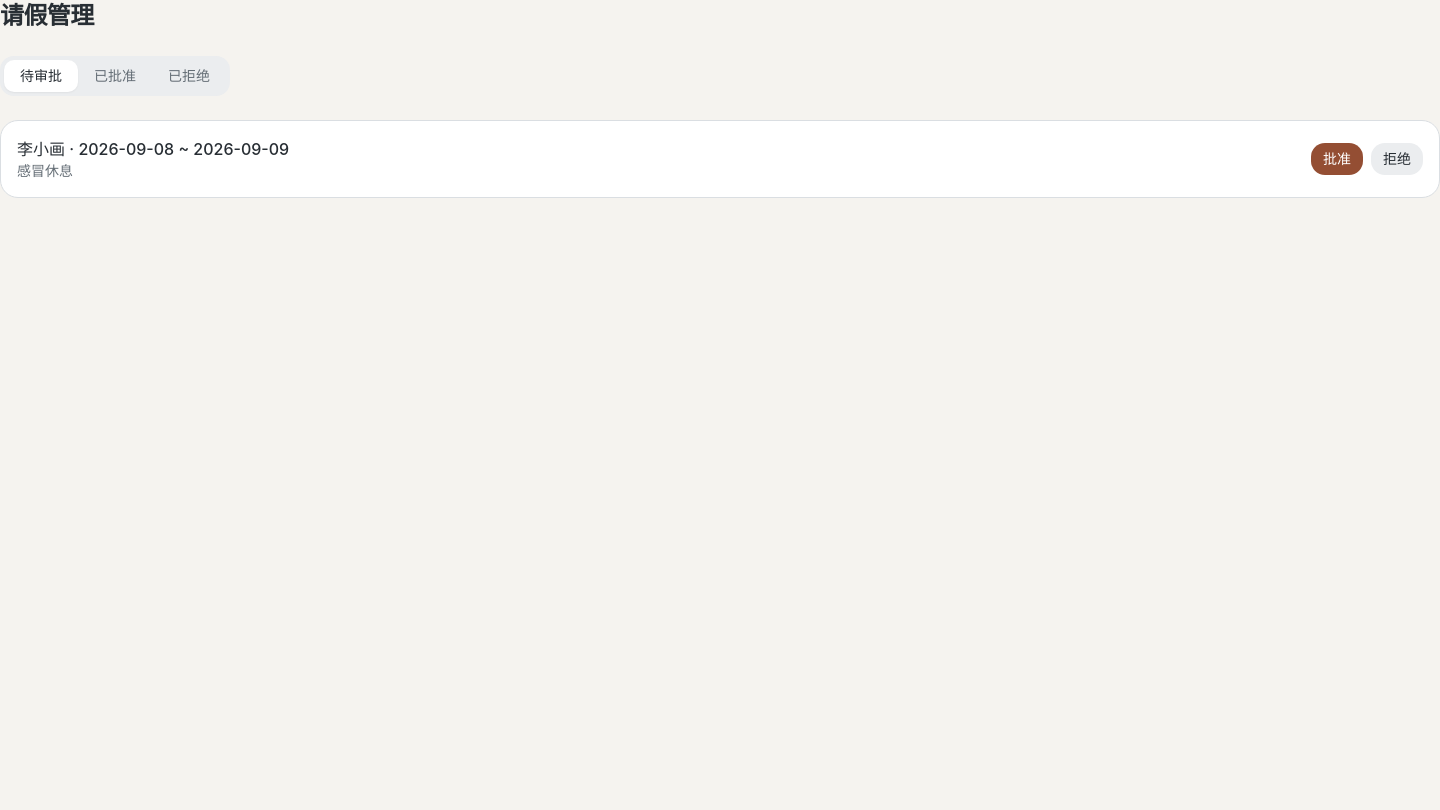
LeaveListPage › closes the detail sheet after 拒绝 so a stale pending request cannot be reviewed again
Click the button "李小画 · 2026-09-08 ~ 2026-09-09 感冒休息". click: (41, 149)
box: [1,121,1295,197]
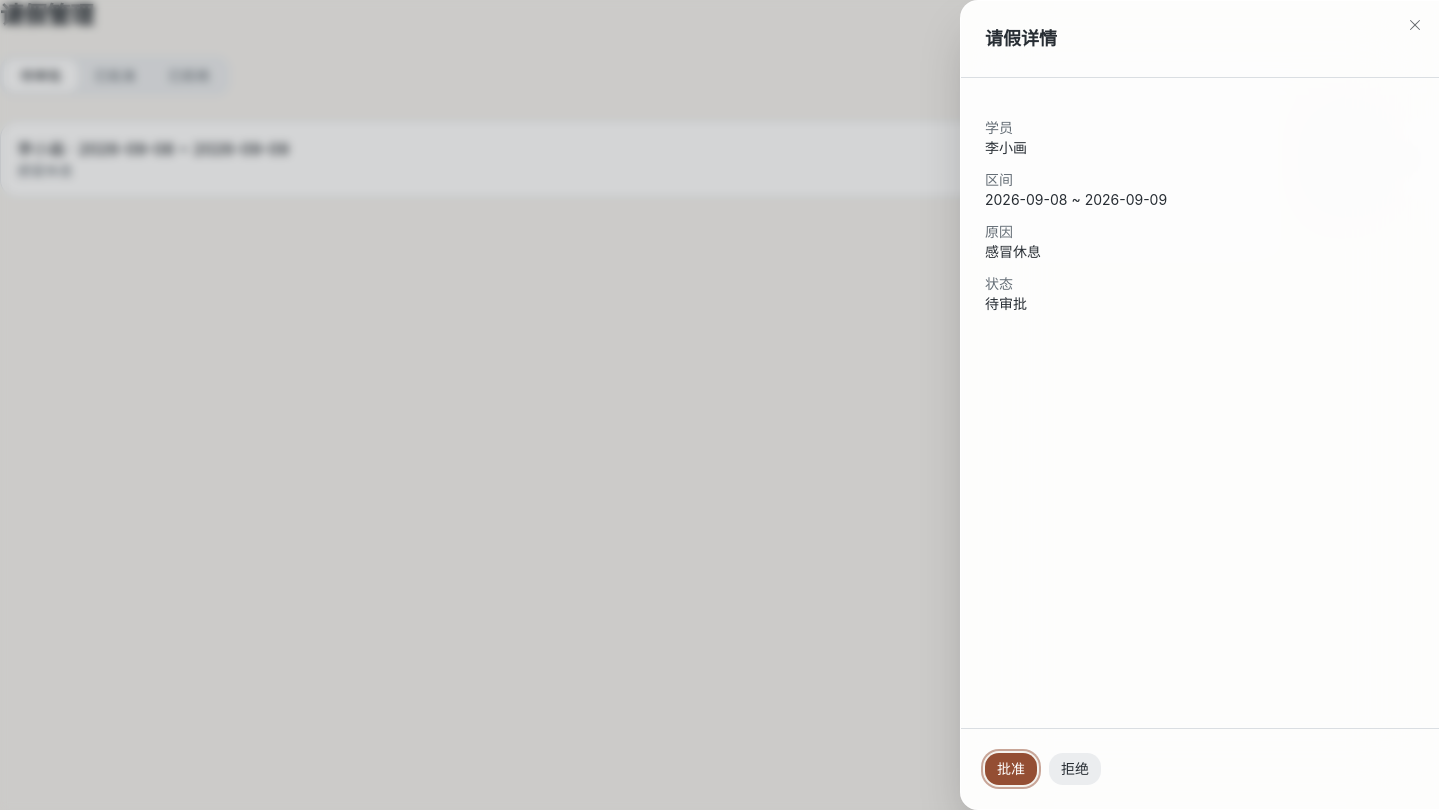
Click the button "拒绝". click: (1075, 769)
box: [1049,753,1101,785]
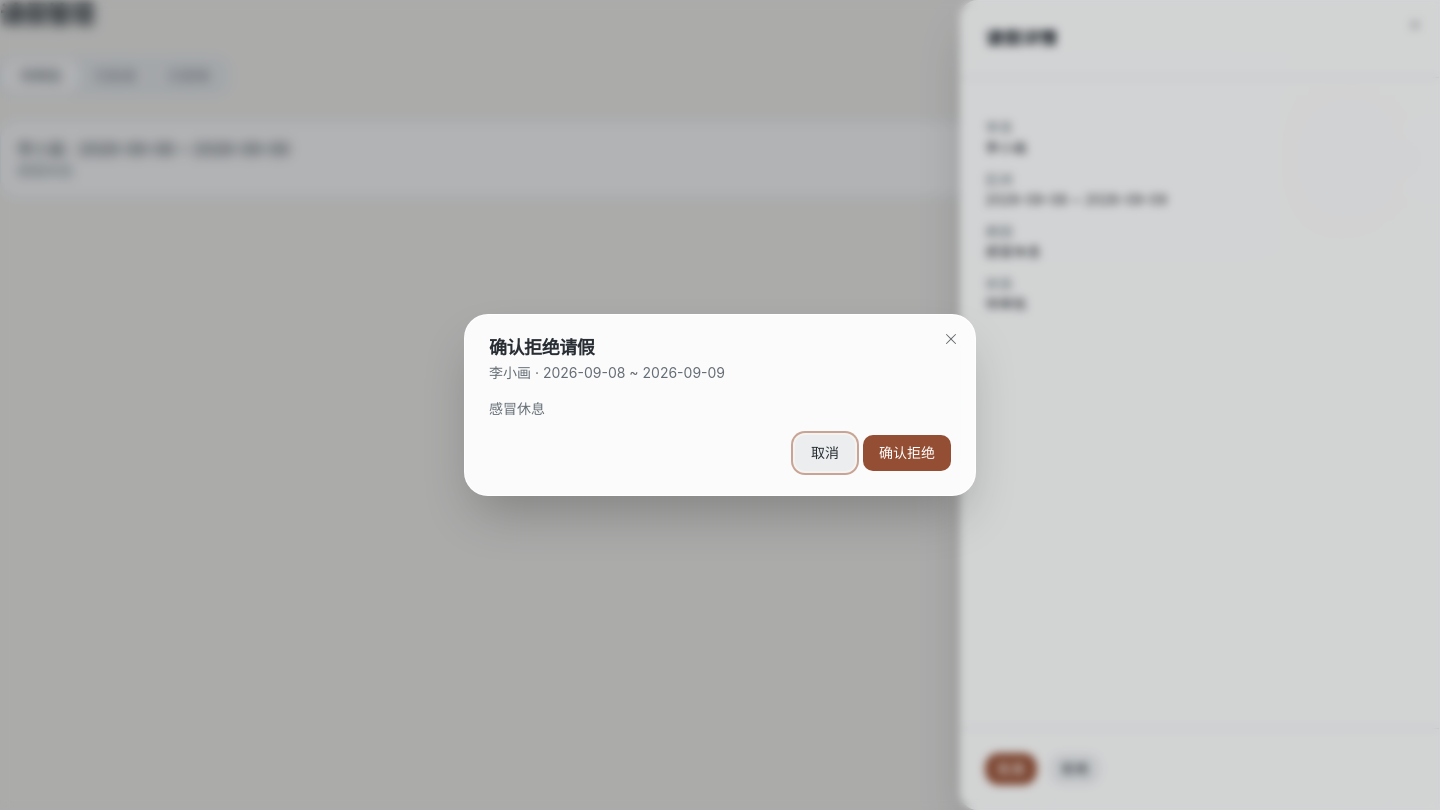
Click the 3rd button. click: (907, 453)
box: [863,435,951,471]
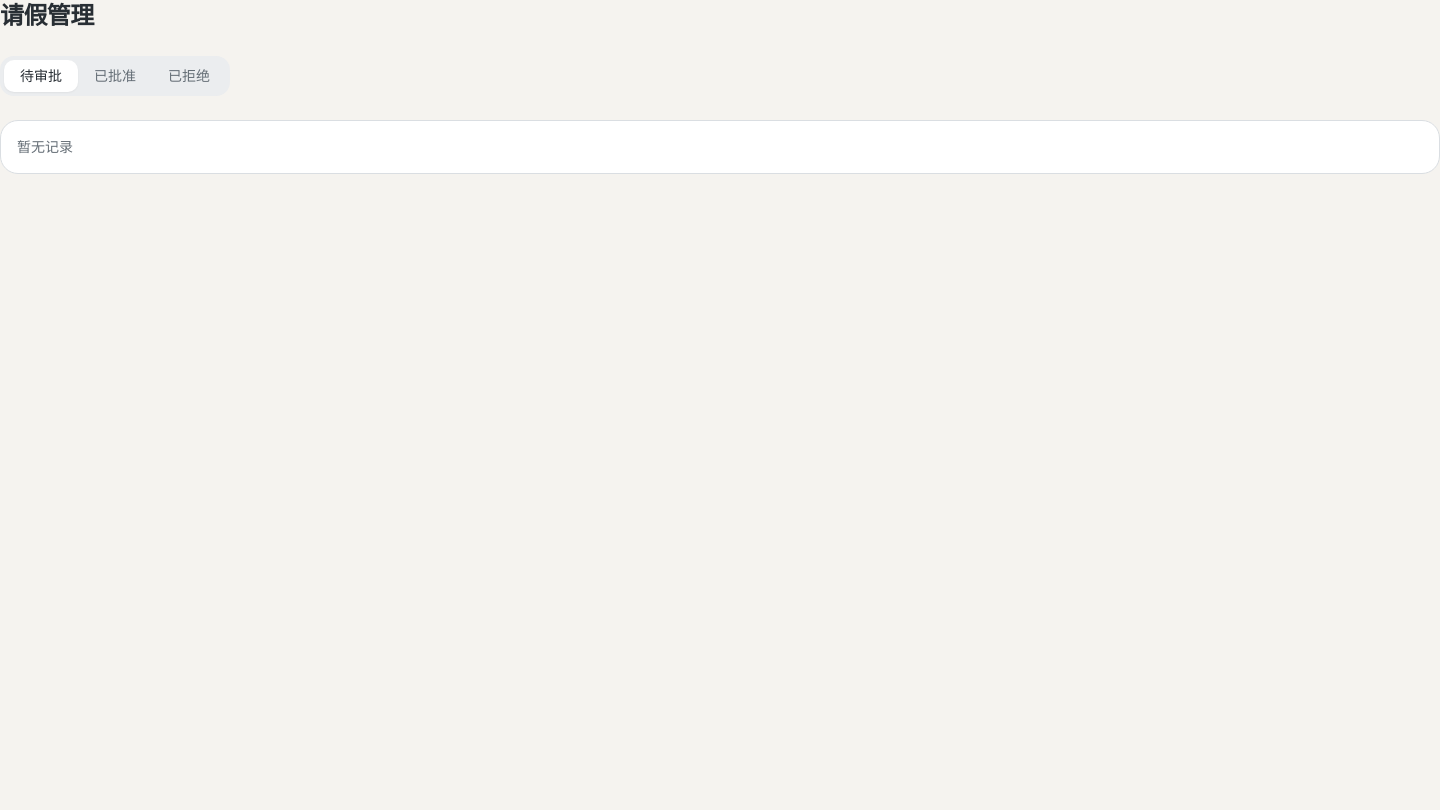
Check: the dialog is gone
Check: the list item "暂无记录" is shown, box [17,138,73,155]
